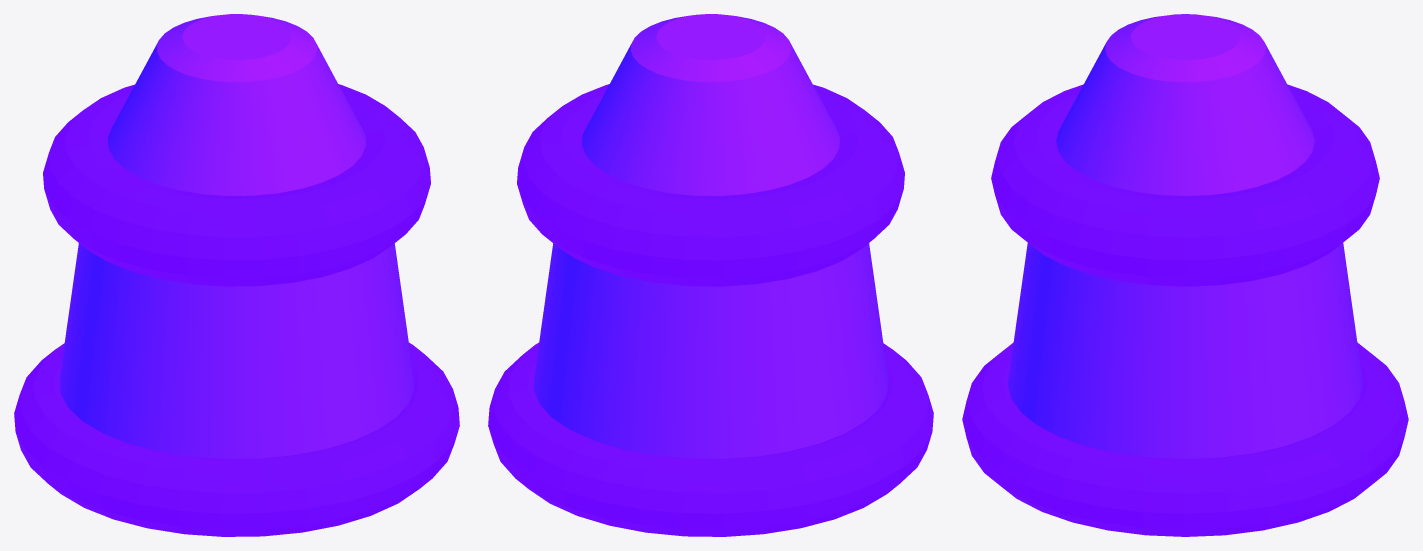
The model's file is PlasmaCanonBullet.fbx.
The picture shows the model from 3 angles, left to right: view 1: azimuth 30°, elevation 25°; view 2: azimuth 150°, elevation 25°; view 3: azimuth 270°, elevation 25°; orthographic projection.
Parts seen in each view (by area): view 1: Cylinder, Cylinder_Curve.001, Cylinder_Curve.002; view 2: Cylinder, Cylinder_Curve.001, Cylinder_Curve.002; view 3: Cylinder, Cylinder_Curve.001, Cylinder_Curve.002.
Boxes of the visible parts, x1,y1,x2,y2 form: Cylinder: [59, 14, 414, 458]; Cylinder_Curve.001: [43, 84, 430, 286]; Cylinder_Curve.002: [14, 342, 459, 536]; Cylinder: [533, 14, 888, 458]; Cylinder_Curve.001: [517, 84, 904, 286]; Cylinder_Curve.002: [488, 342, 933, 536]; Cylinder: [1007, 14, 1363, 458]; Cylinder_Curve.001: [991, 84, 1379, 286]; Cylinder_Curve.002: [962, 342, 1408, 536].
Size of the model in its own units: 203 by 212 by 203.
